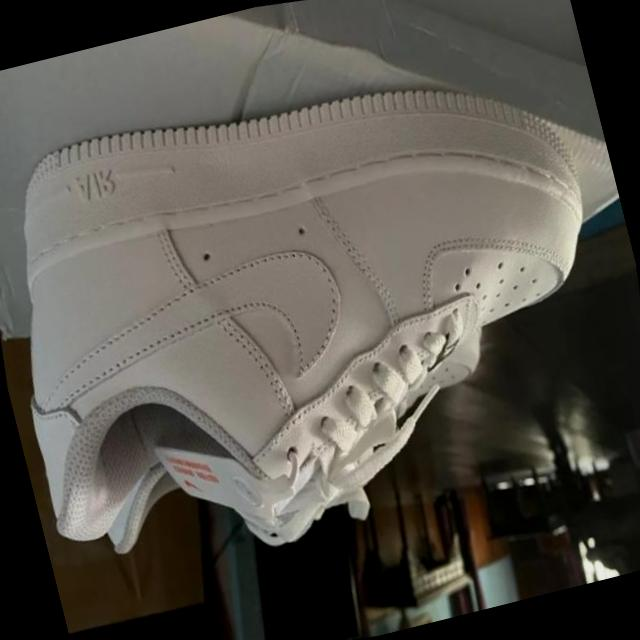nike_original_airforce: (0, 5, 640, 607)
